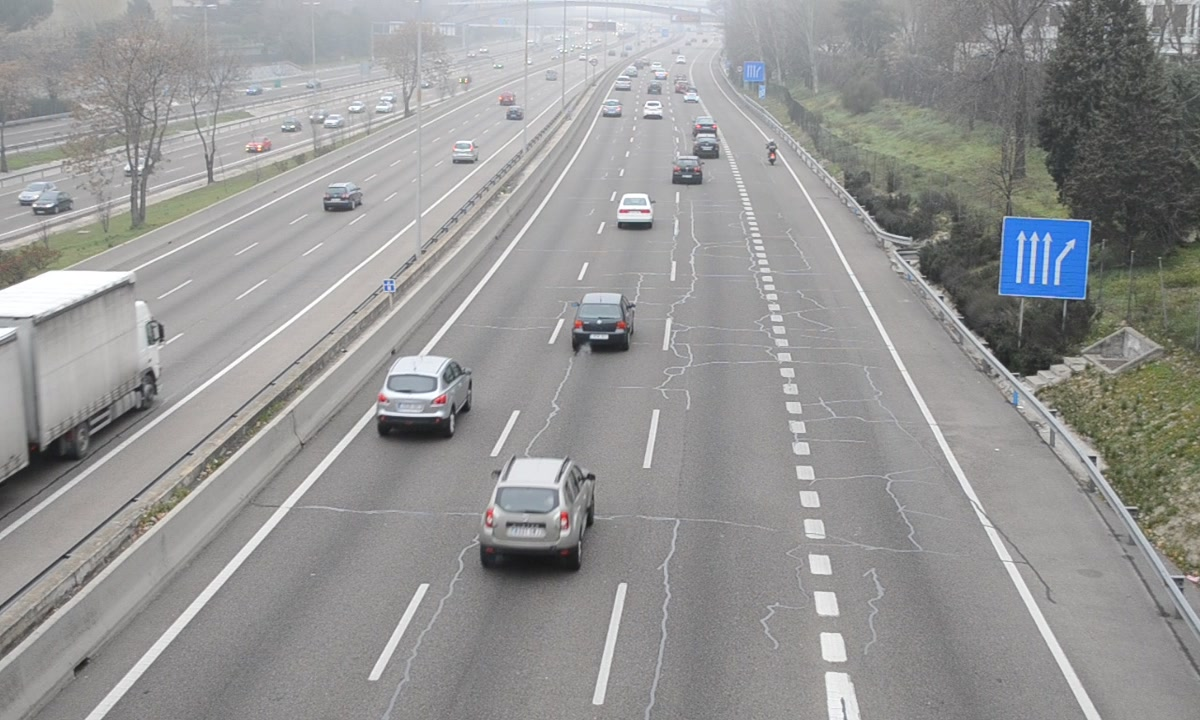car: (484, 457, 596, 548), (379, 356, 471, 424), (570, 292, 632, 351), (616, 192, 655, 224), (672, 155, 704, 184), (694, 133, 723, 157)
motorcycle: (767, 140, 780, 167)
